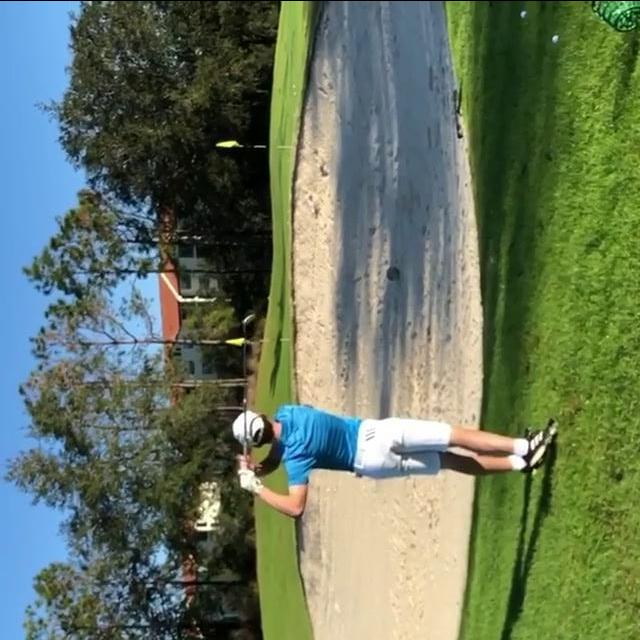golf ball: (521, 9, 527, 17), (552, 34, 558, 40)
golf club-handle: (242, 313, 256, 456)
golf club-head: (242, 313, 256, 324)
